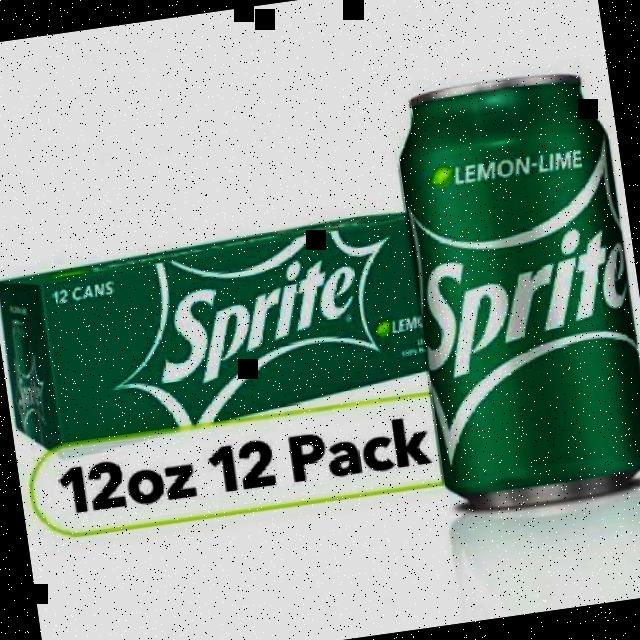can: (370, 29, 640, 542)
